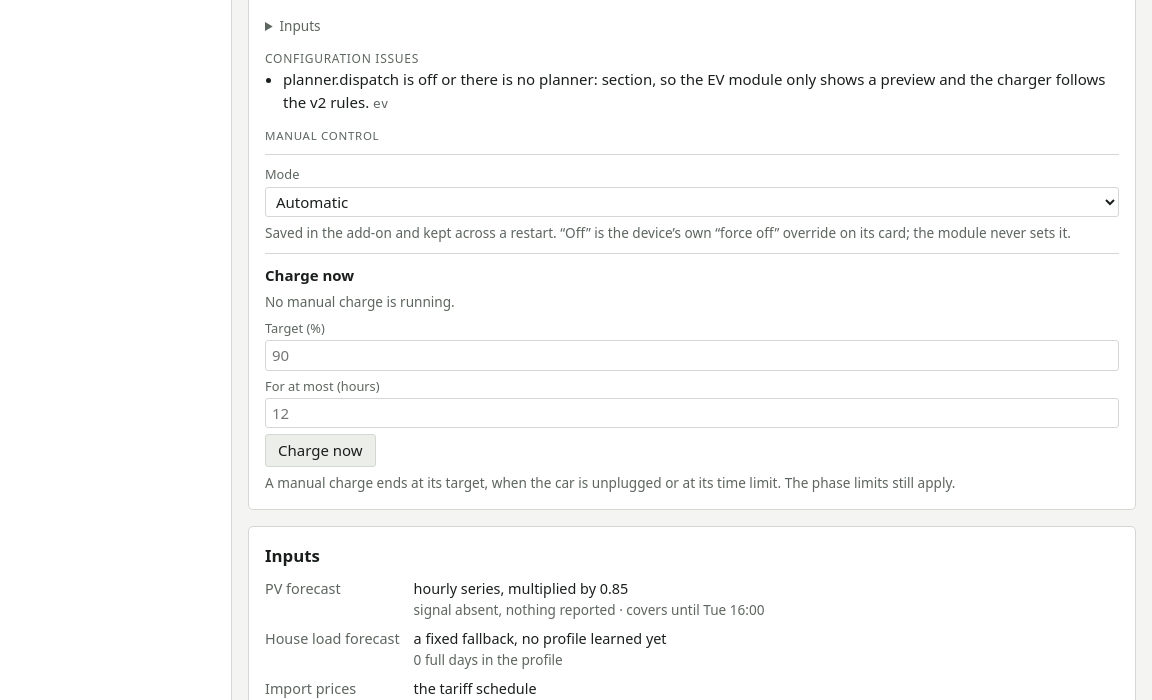
Scenario: EV card: the manual control (S6) › refuses the target 0 before asking the add-on
(page scrolled)
Type "0" into the field labelled "Target (%)" at (692, 355), box [265,340,1119,370]
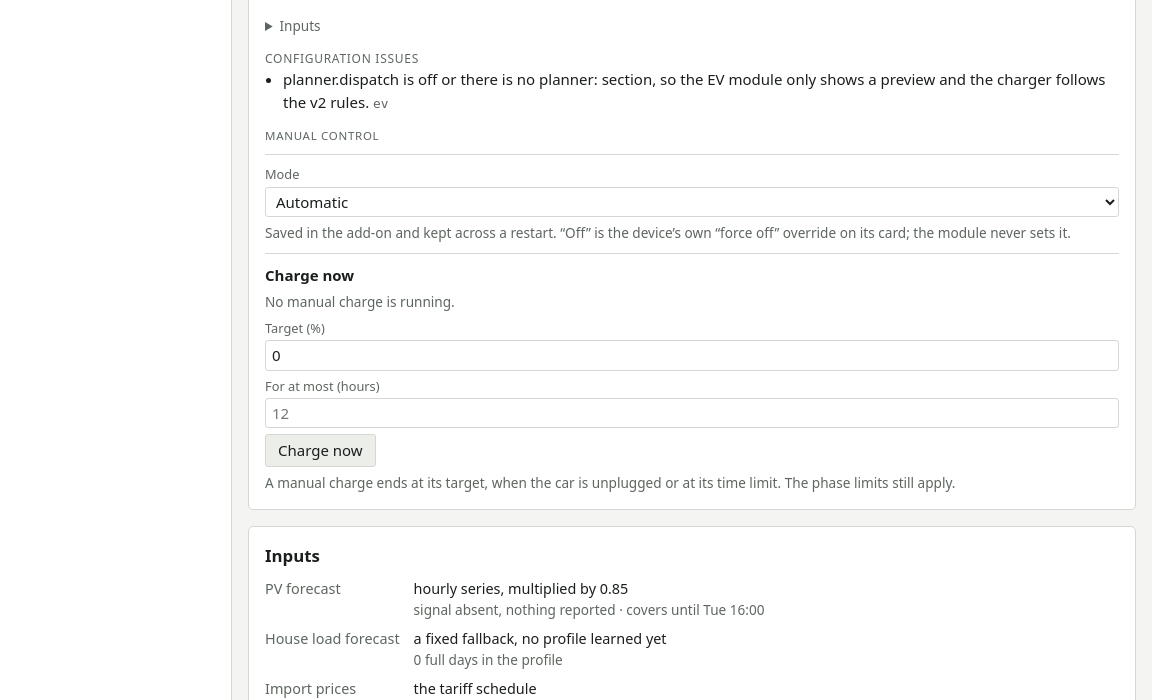
Submit the form, box [265,253,1119,493]
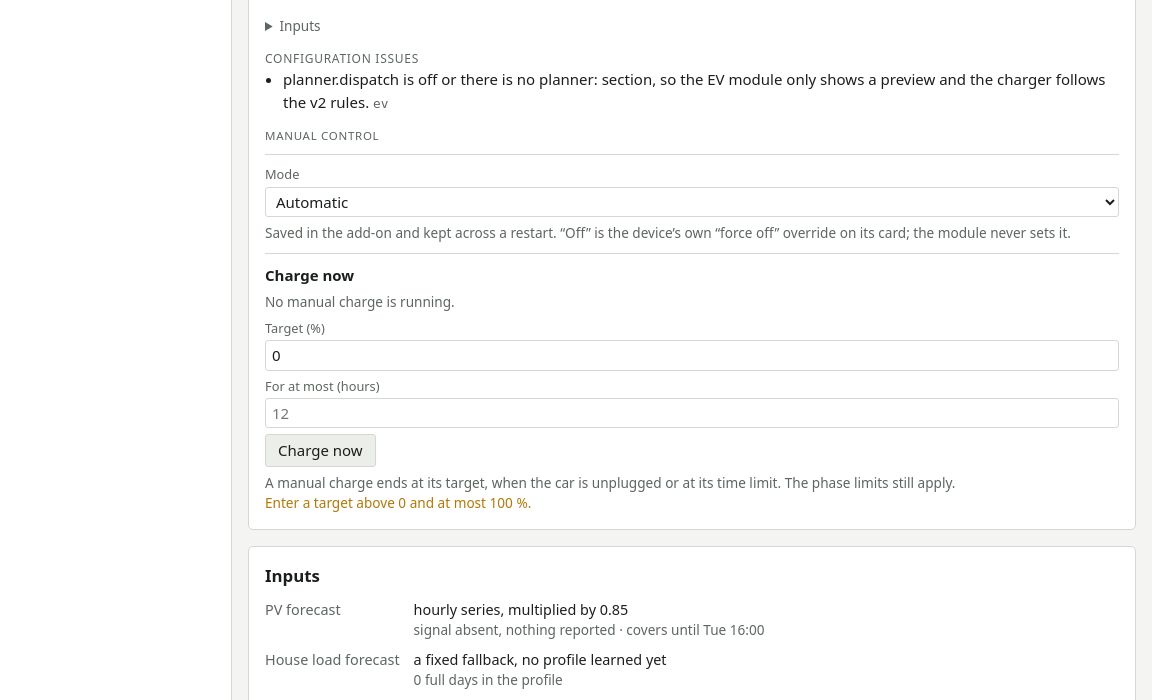
Check: the message "Enter a target above 0 and at most 100 %." is shown, box [265,493,531,512]
